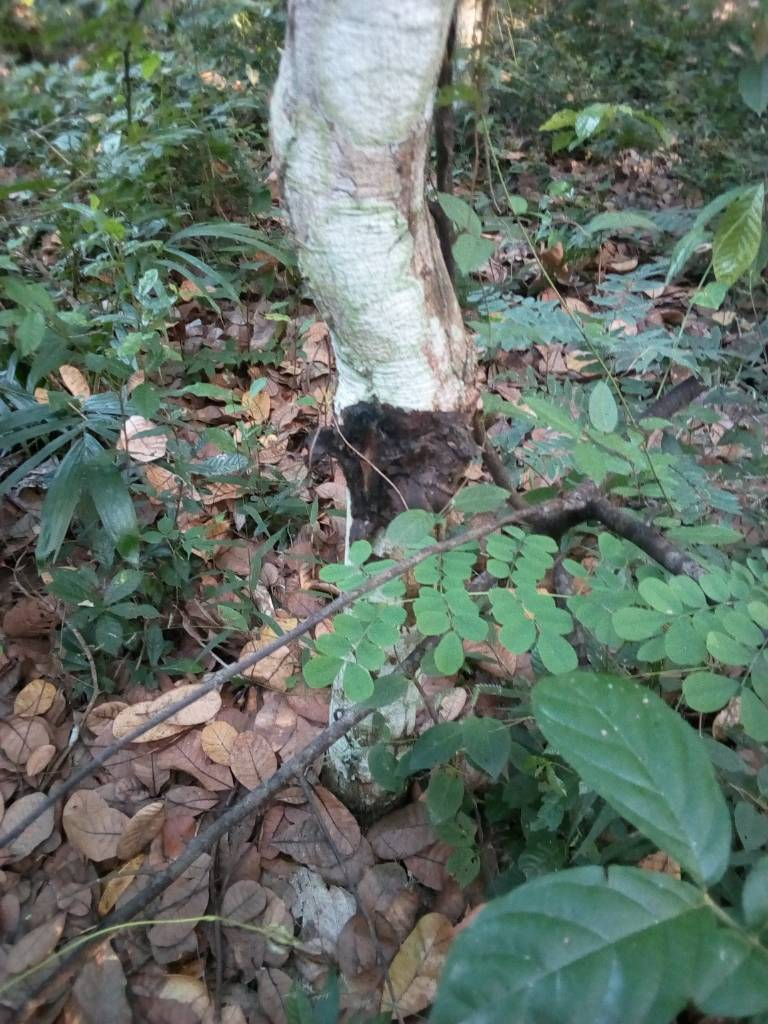Mecocorynus longiceps: (287, 367, 498, 582)
